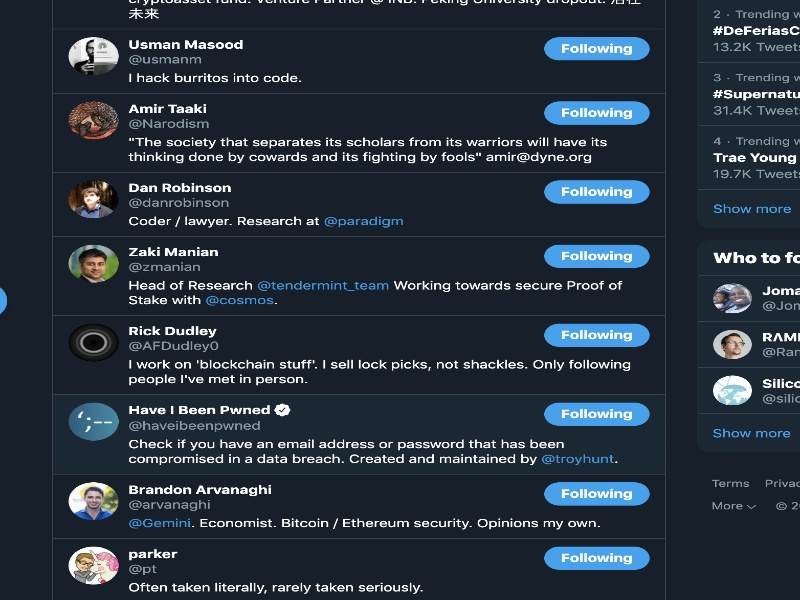follbut: (542, 178, 651, 206), (542, 99, 651, 126), (541, 321, 650, 348), (543, 400, 652, 427), (543, 480, 652, 507), (543, 243, 651, 270), (542, 35, 650, 61), (543, 545, 650, 570)
